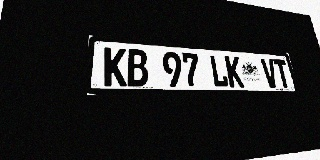7: (181, 52, 202, 87)
9: (162, 51, 183, 87)
B: (127, 49, 149, 87)
K: (104, 47, 127, 86), (224, 56, 244, 87)
L: (209, 54, 229, 87)
T: (273, 59, 292, 88)
V: (260, 58, 279, 88)
